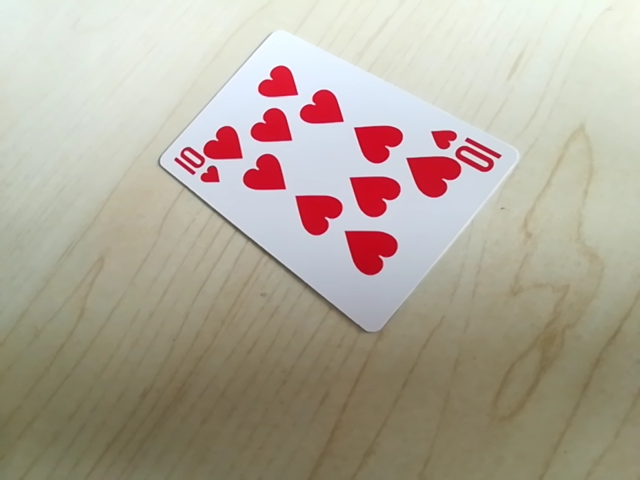hx 10: (428, 130, 506, 166), (165, 150, 227, 186)
